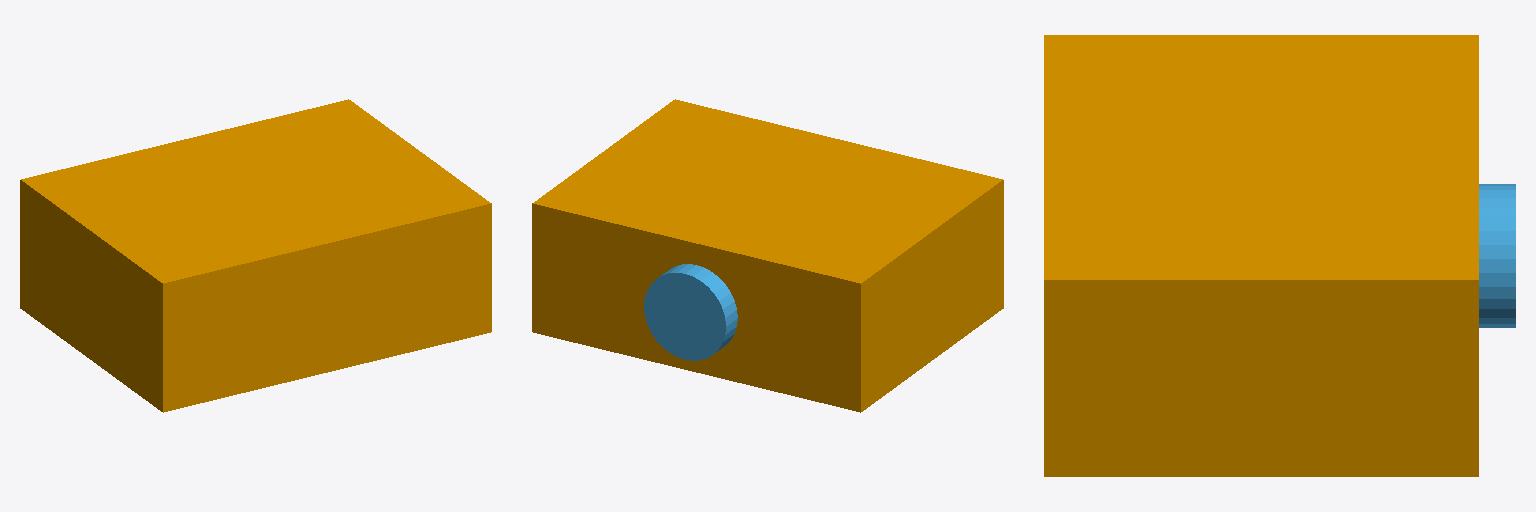
robot.urdf — audit_fixture:
<?xml version="1.0"?>
<robot name="audit_fixture">
  <link name="base_link">
    <visual><geometry><box size="0.4 0.3 0.15"/></geometry></visual>
    <collision><geometry><box size="0.4 0.3 0.15"/></geometry></collision>
    <inertial>
      <mass value="8.0"/>
      <inertia ixx="0.075" ixy="0" ixz="0" iyy="0.12167" iyz="0" izz="0.1667"/>
    </inertial>
  </link>
  <link name="wheel_link">
    <visual><geometry><cylinder radius="0.05" length="0.03"/></geometry></visual>
    <collision><geometry><cylinder radius="0.05" length="0.03"/></geometry></collision>
    <inertial>
      <mass value="0.4"/>
      <inertia ixx="0.00028" ixy="0" ixz="0" iyy="0.00028" iyz="0" izz="0.0005"/>
    </inertial>
  </link>
  <joint name="wheel_joint" type="continuous">
    <parent link="base_link"/>
    <child link="wheel_link"/>
    <origin xyz="0 0.16 0" rpy="1.5707963 0 0"/>
    <axis xyz="0 0 1"/>
    <limit effort="5" velocity="20"/>
  </joint>
</robot>

--- Render facts (derived) ---
The picture shows the robot from 3 angles, left to right: view 1: azimuth 30°, elevation 25°; view 2: azimuth 150°, elevation 25°; view 3: azimuth 270°, elevation 25°; orthographic projection.
Robot: audit_fixture — 2 links, 1 joints (1 continuous); root link base_link; default pose: all joints at 0.
Links seen in each view (by area): view 1: base_link; view 2: base_link, wheel_link; view 3: base_link, wheel_link.
Boxes of the visible links, box(x1,y1,x2,y2) form: base_link: box(20, 99, 491, 412); base_link: box(532, 99, 1003, 412); wheel_link: box(644, 264, 737, 360); base_link: box(1044, 35, 1478, 476); wheel_link: box(1479, 184, 1515, 327).
Bounding box of the posed robot: 0.4 × 0.325 × 0.15 m (x, y, z).
Geometry: primitives only (box / cylinder / sphere), no mesh files.
